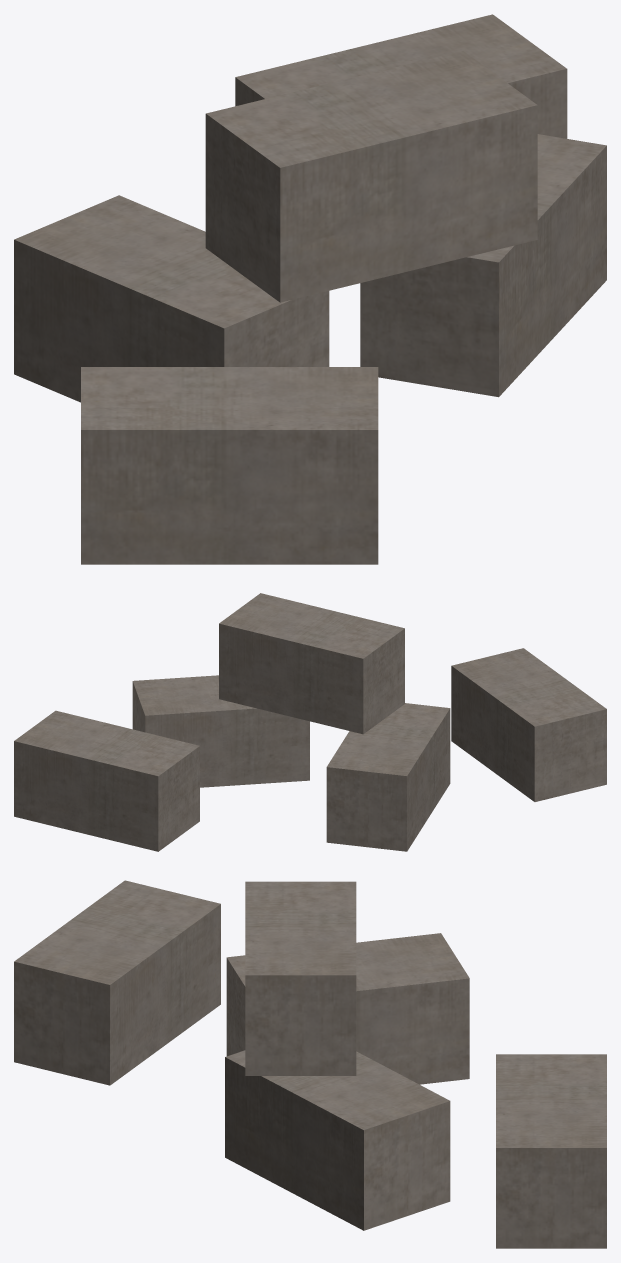
File: detailBricks_typeA.fbx
3 views of the same model, one above another, from view 1: azimuth 30°, elevation 25°; view 2: azimuth 150°, elevation 25°; view 3: azimuth 270°, elevation 25° (orthographic). The views are drawn at different scales.
Visible parts, largest first — view 1: detailBricks_typeA; view 2: detailBricks_typeA; view 3: detailBricks_typeA.
Part boxes in pixels (x1,y1,x2,y2): detailBricks_typeA: [14, 14, 606, 564]; detailBricks_typeA: [14, 593, 606, 851]; detailBricks_typeA: [14, 880, 606, 1248].
Bounding box in the file's own units: 5.71 × 2 × 5.34.
